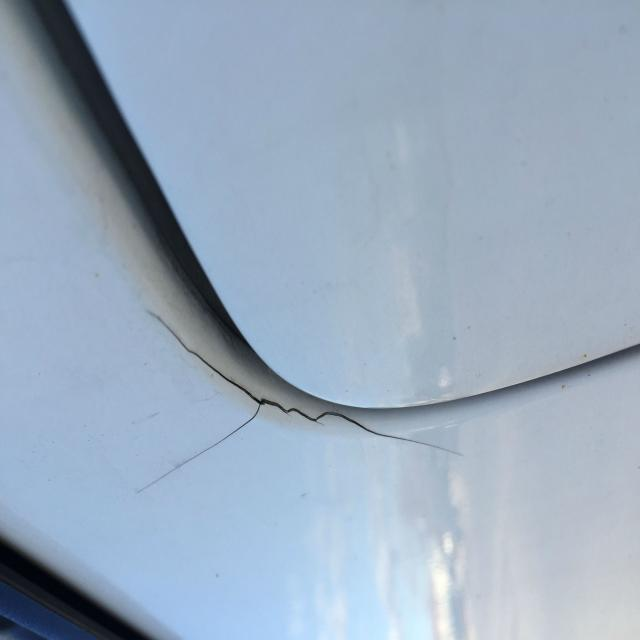Rupture: (141, 310, 480, 512)
